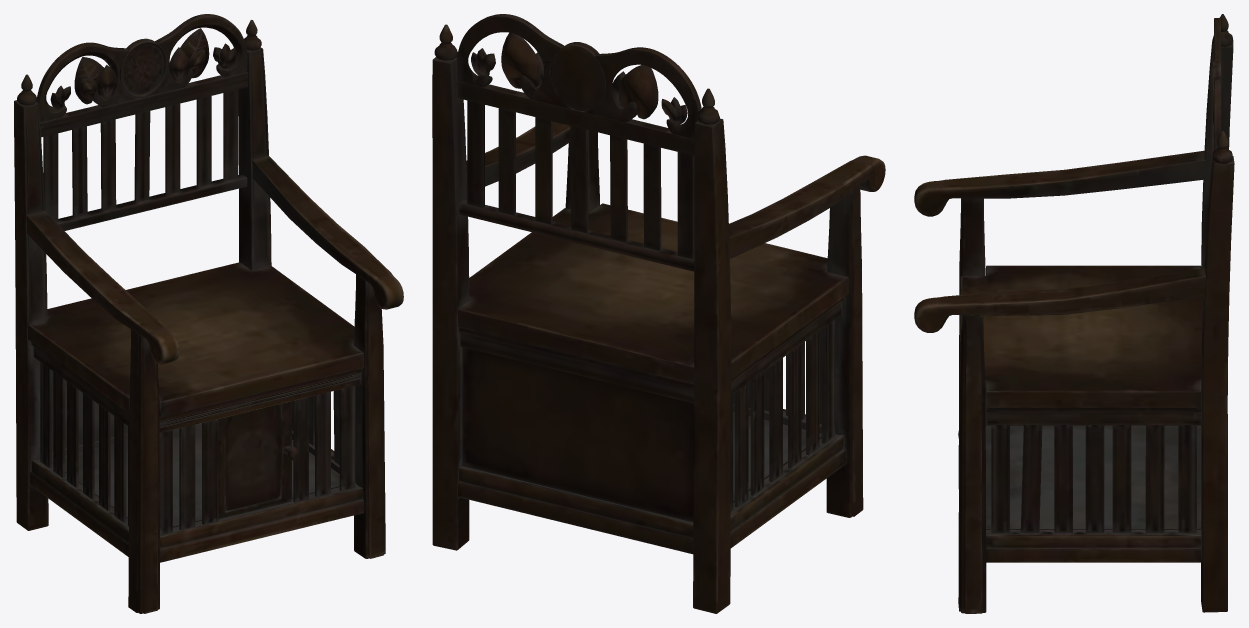
Rendered from gallinera_chair.glb.
3 views of the same model, side by side, from view 1: azimuth 30°, elevation 25°; view 2: azimuth 150°, elevation 25°; view 3: azimuth 270°, elevation 25° (orthographic). The views are drawn at different scales.
Parts seen in each view (by area): view 1: gallinera_chair; view 2: gallinera_chair; view 3: gallinera_chair.
Boxes of the visible parts, left/top/right/bottom form: gallinera_chair: left=14, top=14, right=403, bottom=613; gallinera_chair: left=432, top=14, right=885, bottom=613; gallinera_chair: left=914, top=14, right=1234, bottom=613.
Bounding box in the file's own units: 0.5808 × 1.03 × 0.6039.
1 material, 1 textured.
